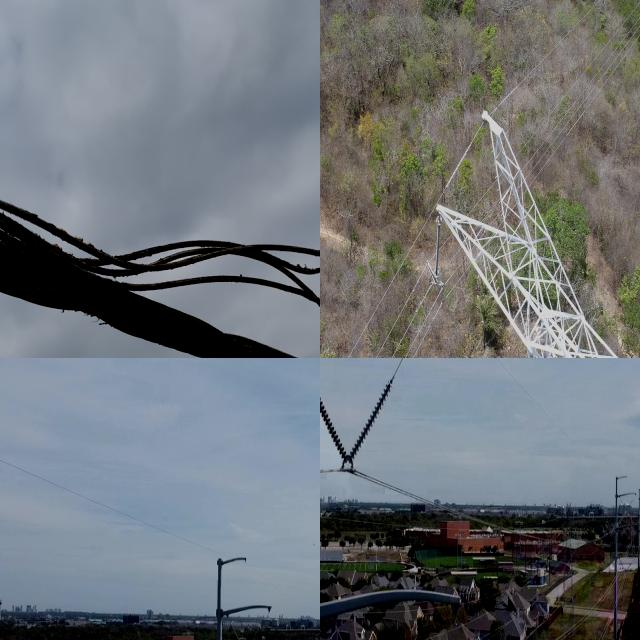杆塔: (438, 107, 622, 358)
正常电缆: (344, 119, 486, 358), (525, 17, 640, 186), (518, 0, 640, 156), (495, 0, 608, 111), (372, 259, 429, 358), (390, 285, 433, 358), (402, 303, 435, 358), (412, 305, 441, 358)
正常绝缘子: (339, 366, 400, 480), (320, 390, 354, 474), (432, 204, 443, 304), (248, 620, 264, 640), (228, 618, 242, 640)
电缆破损: (0, 152, 320, 358)
